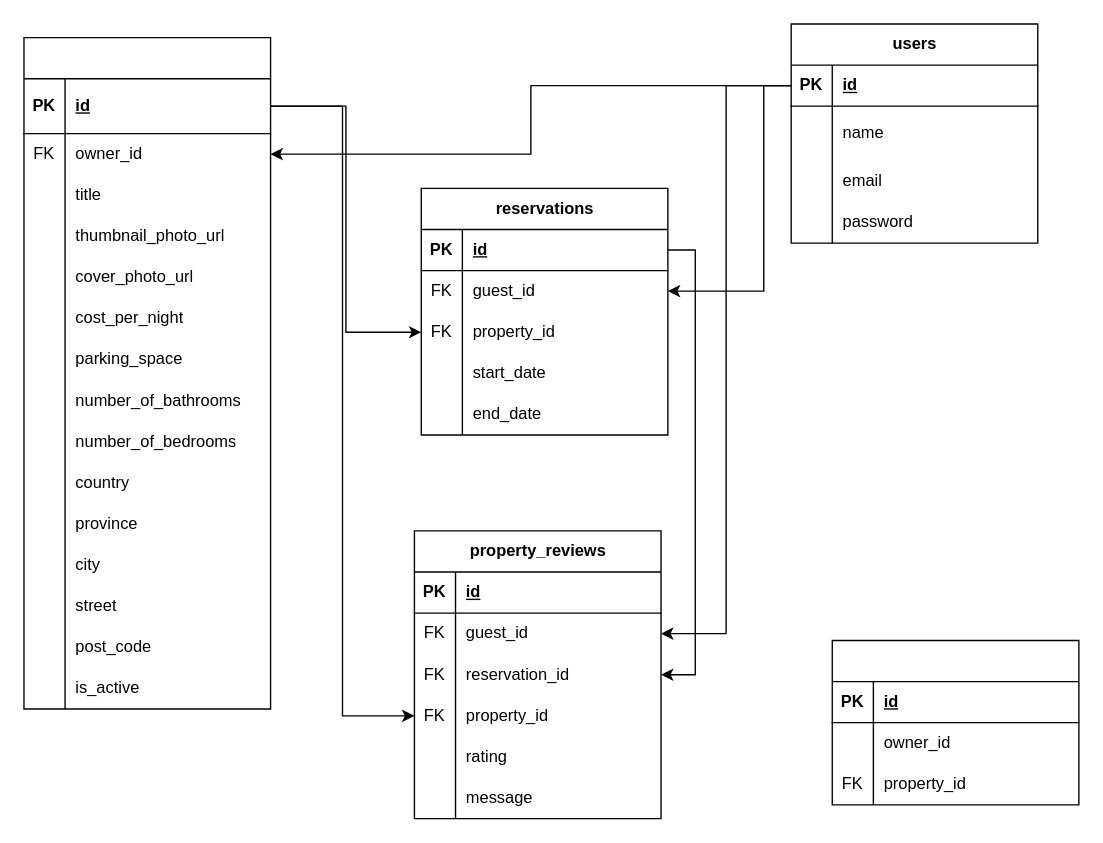
The diagram is 1103 pixels wide and 843 high, and some of its shapes have lost their labels. The shapes that lost their labels are listed below. From the top down, each one's box as (x1, y1, x2, y2) in pixels, then its label:
(23, 36, 271, 709): properties
(831, 639, 1079, 805): ownerships
